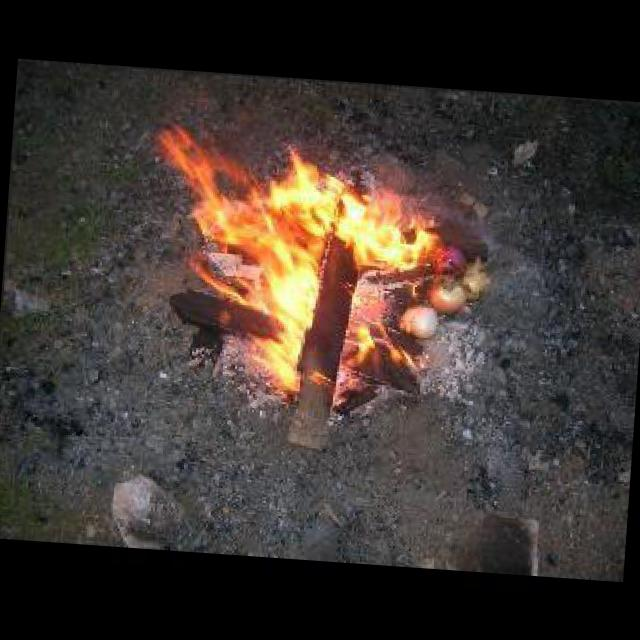Fire: (130, 116, 469, 396)
